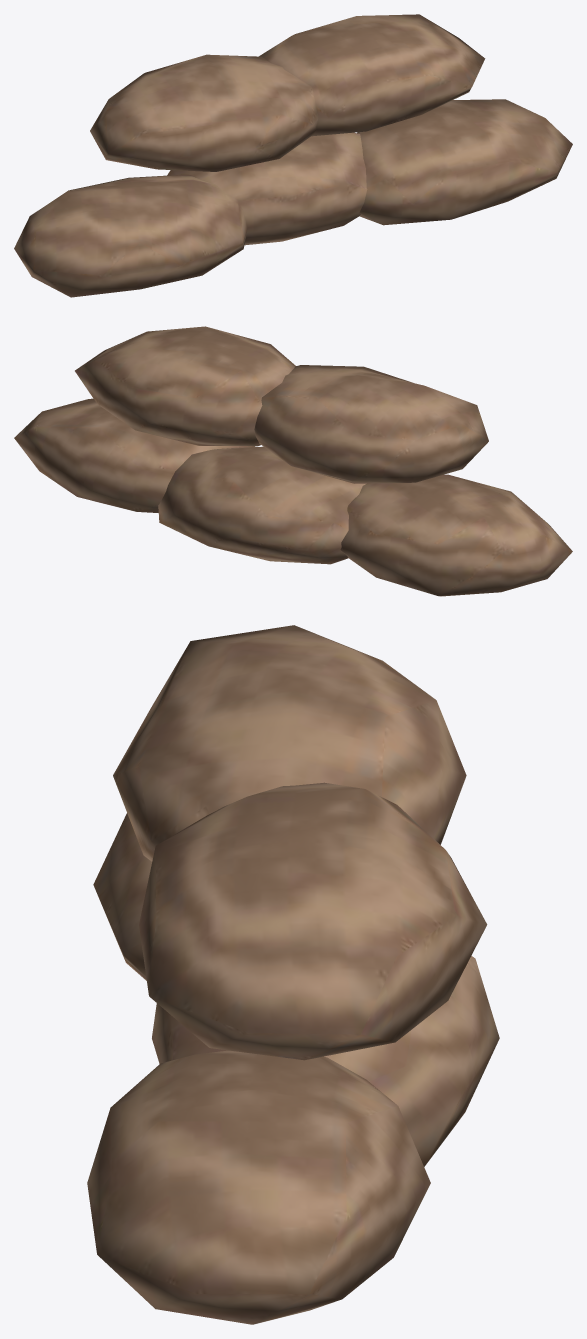
The model's file is sacks.glb.
3 views of the same model, one above another, from view 1: azimuth 30°, elevation 25°; view 2: azimuth 150°, elevation 25°; view 3: azimuth 270°, elevation 25° (orthographic). The views are drawn at different scales.
Parts seen in each view (by area): view 1: sacks; view 2: sacks; view 3: sacks.
Boxes of the visible parts, <box> form: sacks: <box>14,14,572,297</box>; sacks: <box>14,326,572,596</box>; sacks: <box>87,625,499,1324</box>.
Size of the model in its own units: 1.19 by 0.3924 by 0.3975.
1 material, 1 textured.
